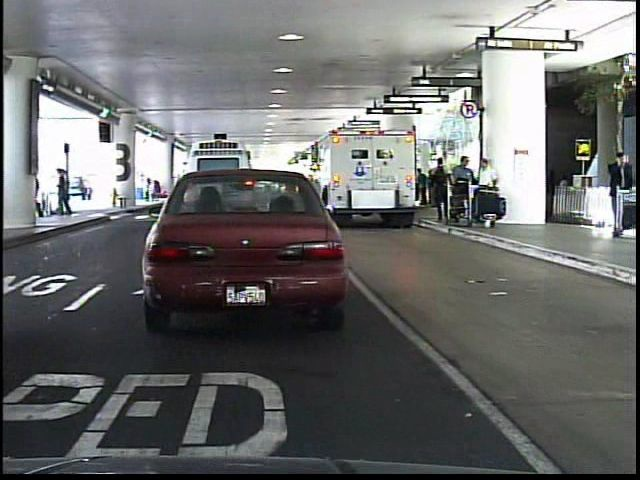person: (51, 166, 72, 222)
